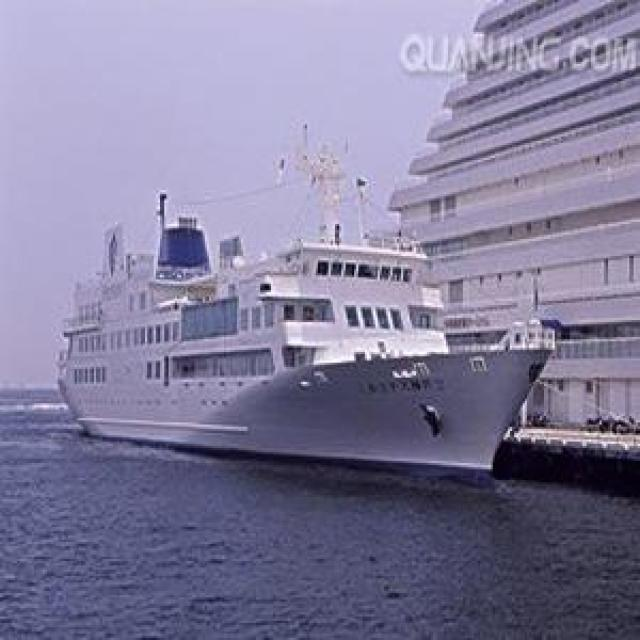passenger ship: (43, 218, 554, 475)
